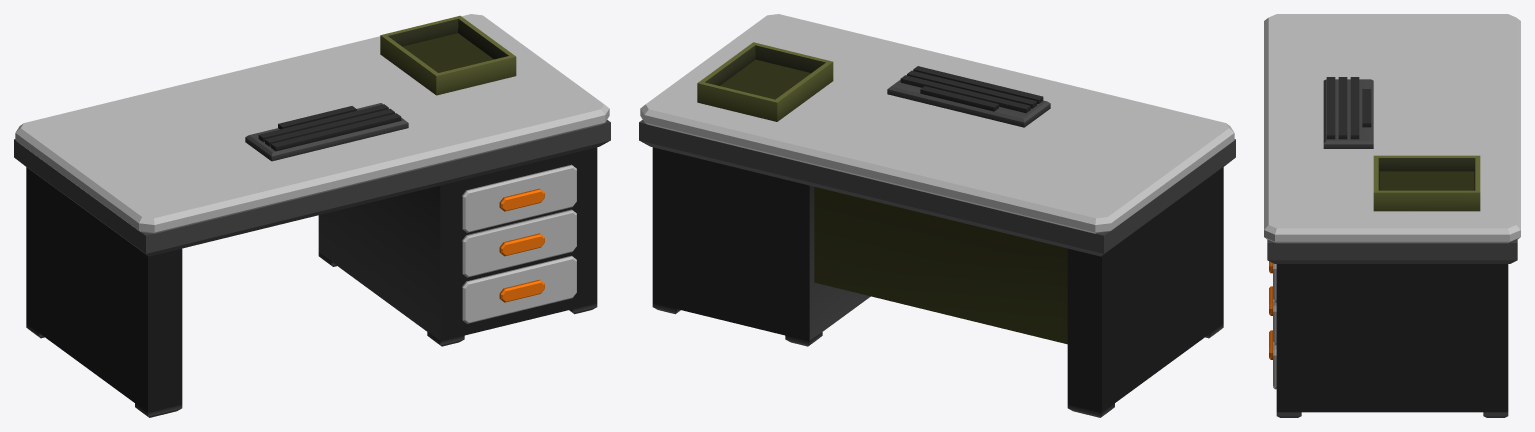
The model's file is desk.glb.
The picture shows the model from 3 angles, left to right: view 1: azimuth 30°, elevation 25°; view 2: azimuth 150°, elevation 25°; view 3: azimuth 270°, elevation 25°; orthographic projection. The views are drawn at different scales.
Visible parts, largest first — view 1: desk; view 2: desk; view 3: desk.
Boxes of the visible parts, x1,y1,x2,y2 form: desk: (14,14,610,417); desk: (639,14,1235,417); desk: (1264,14,1520,417).
Bounding box in the file's own units: 1.65 × 0.75 × 0.82.
1 material, 1 textured.
